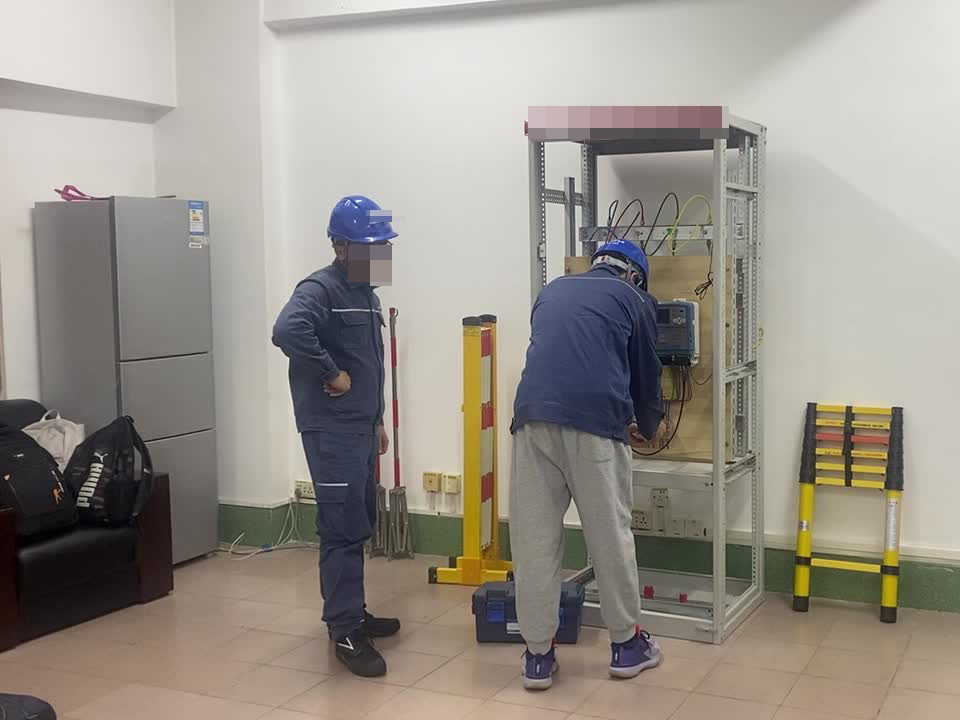downcloth: (505, 418, 653, 651)
downsuit: (301, 441, 385, 640)
halt: (325, 194, 400, 279), (591, 238, 655, 291)
hand: (320, 370, 352, 398), (375, 421, 391, 456)
inear: (328, 238, 352, 268)
person: (507, 237, 672, 674), (271, 193, 406, 678)
upsuit: (513, 271, 665, 437), (275, 266, 391, 435)
